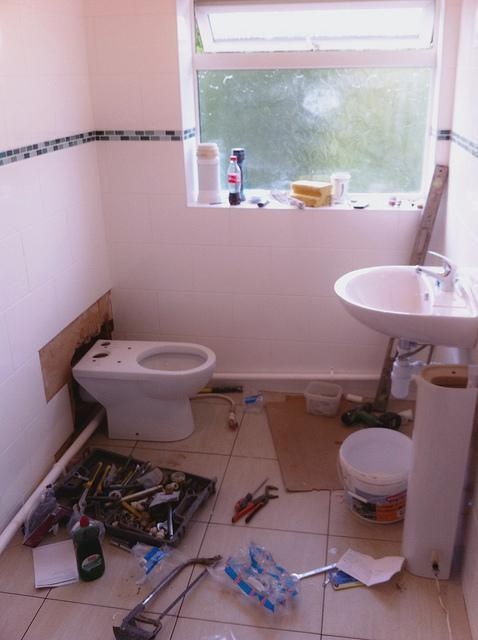Lavamanos: (335, 259, 477, 341)
Sanitario: (80, 332, 215, 447)
